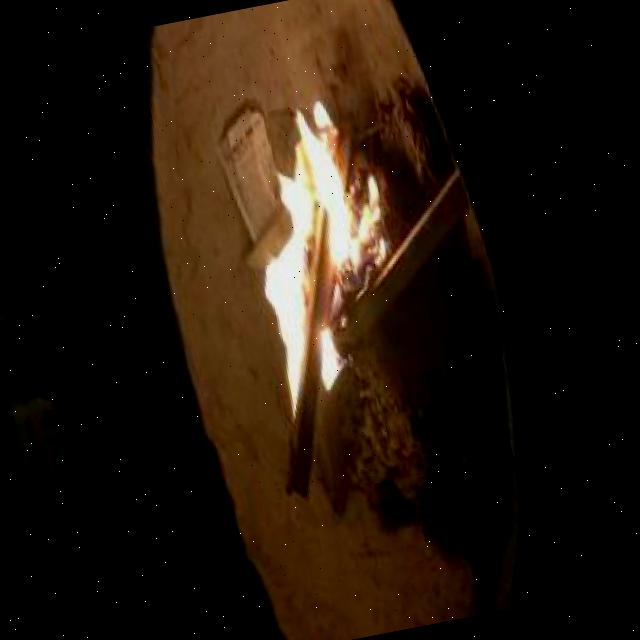fire: (217, 86, 426, 426)
